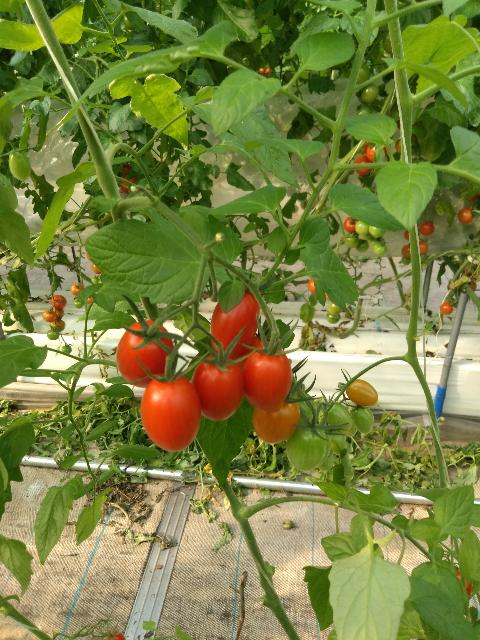l_fully_ripened: (141, 375, 201, 452), (116, 320, 174, 388), (191, 354, 243, 422), (210, 290, 259, 358), (243, 345, 293, 411)
l_green: (285, 424, 326, 472), (290, 391, 316, 426), (323, 401, 351, 430), (0, 172, 19, 210), (9, 150, 31, 182), (350, 405, 374, 434), (327, 425, 347, 455), (319, 448, 334, 471), (341, 419, 357, 437)
l_half_ripened: (252, 396, 299, 443), (346, 379, 378, 407)
